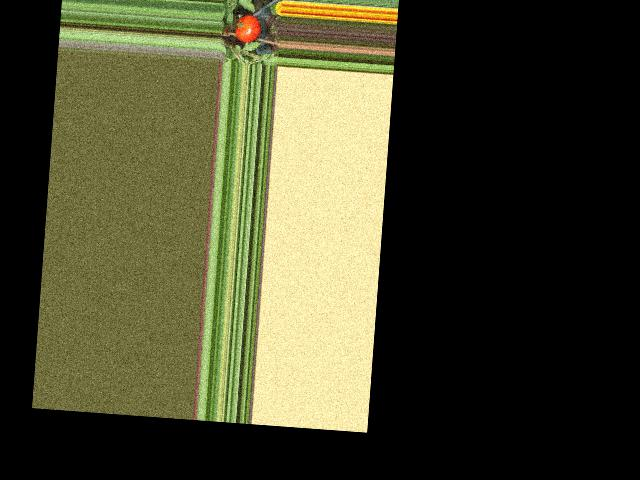tomato: (234, 13, 261, 44)
